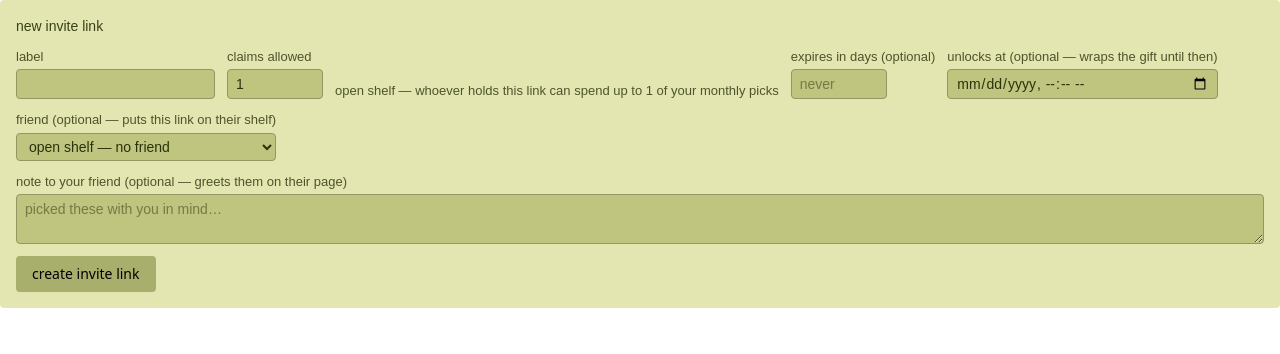
Test: Links › create form › create failure shows a loud error instead of silence
Expected: the button "create invite link" is shown, [16,256,156,292]
Type "Charlie" into the field labelled "label" at (116, 84), box [16,69,215,99]
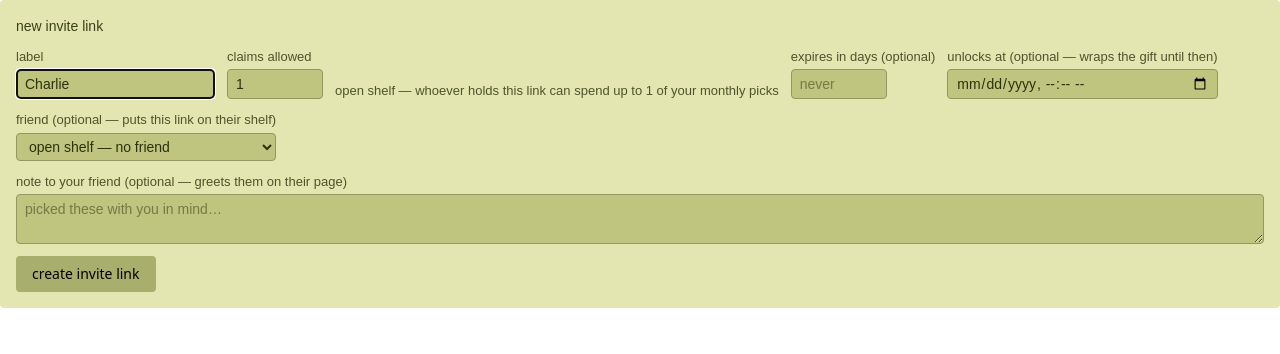
Click the button "create invite link" at (86, 274), box [16,256,156,292]
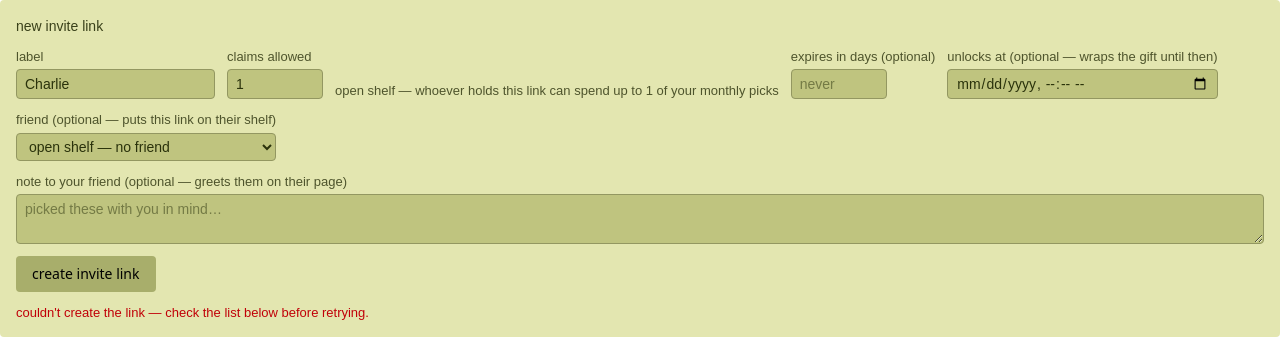
Result: the message shows "couldn't create the link" at [16,305,369,320]
